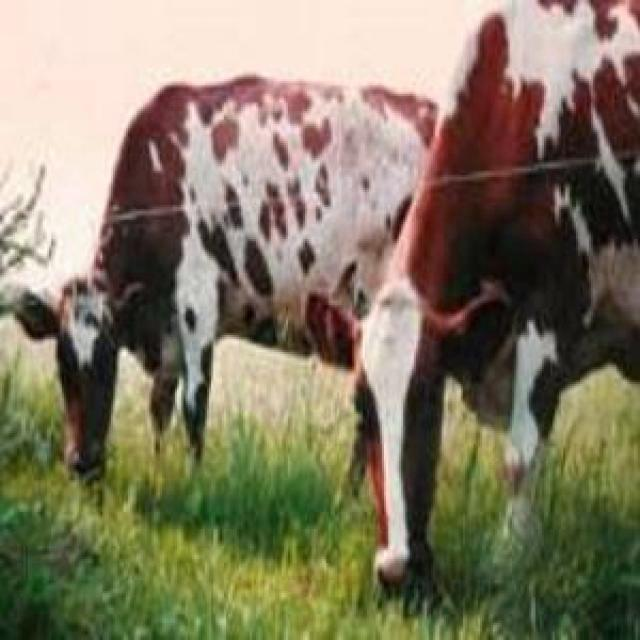cow: (306, 0, 640, 597), (15, 78, 436, 476)
